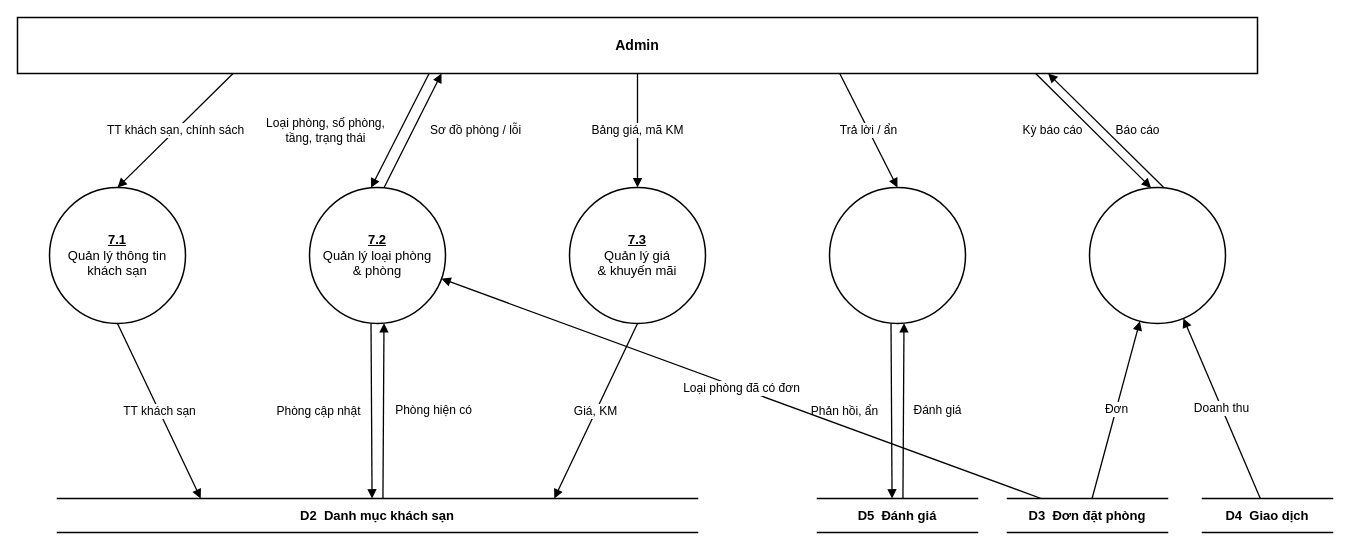
Image size: 1351x551. Some labels were removed from this diagram. Each missing label, with the box of its shape:
7.4 Quản lý đánh giá: (828, 186, 966, 324)
7.5 Thống kê & báo cáo: (1088, 186, 1226, 324)
